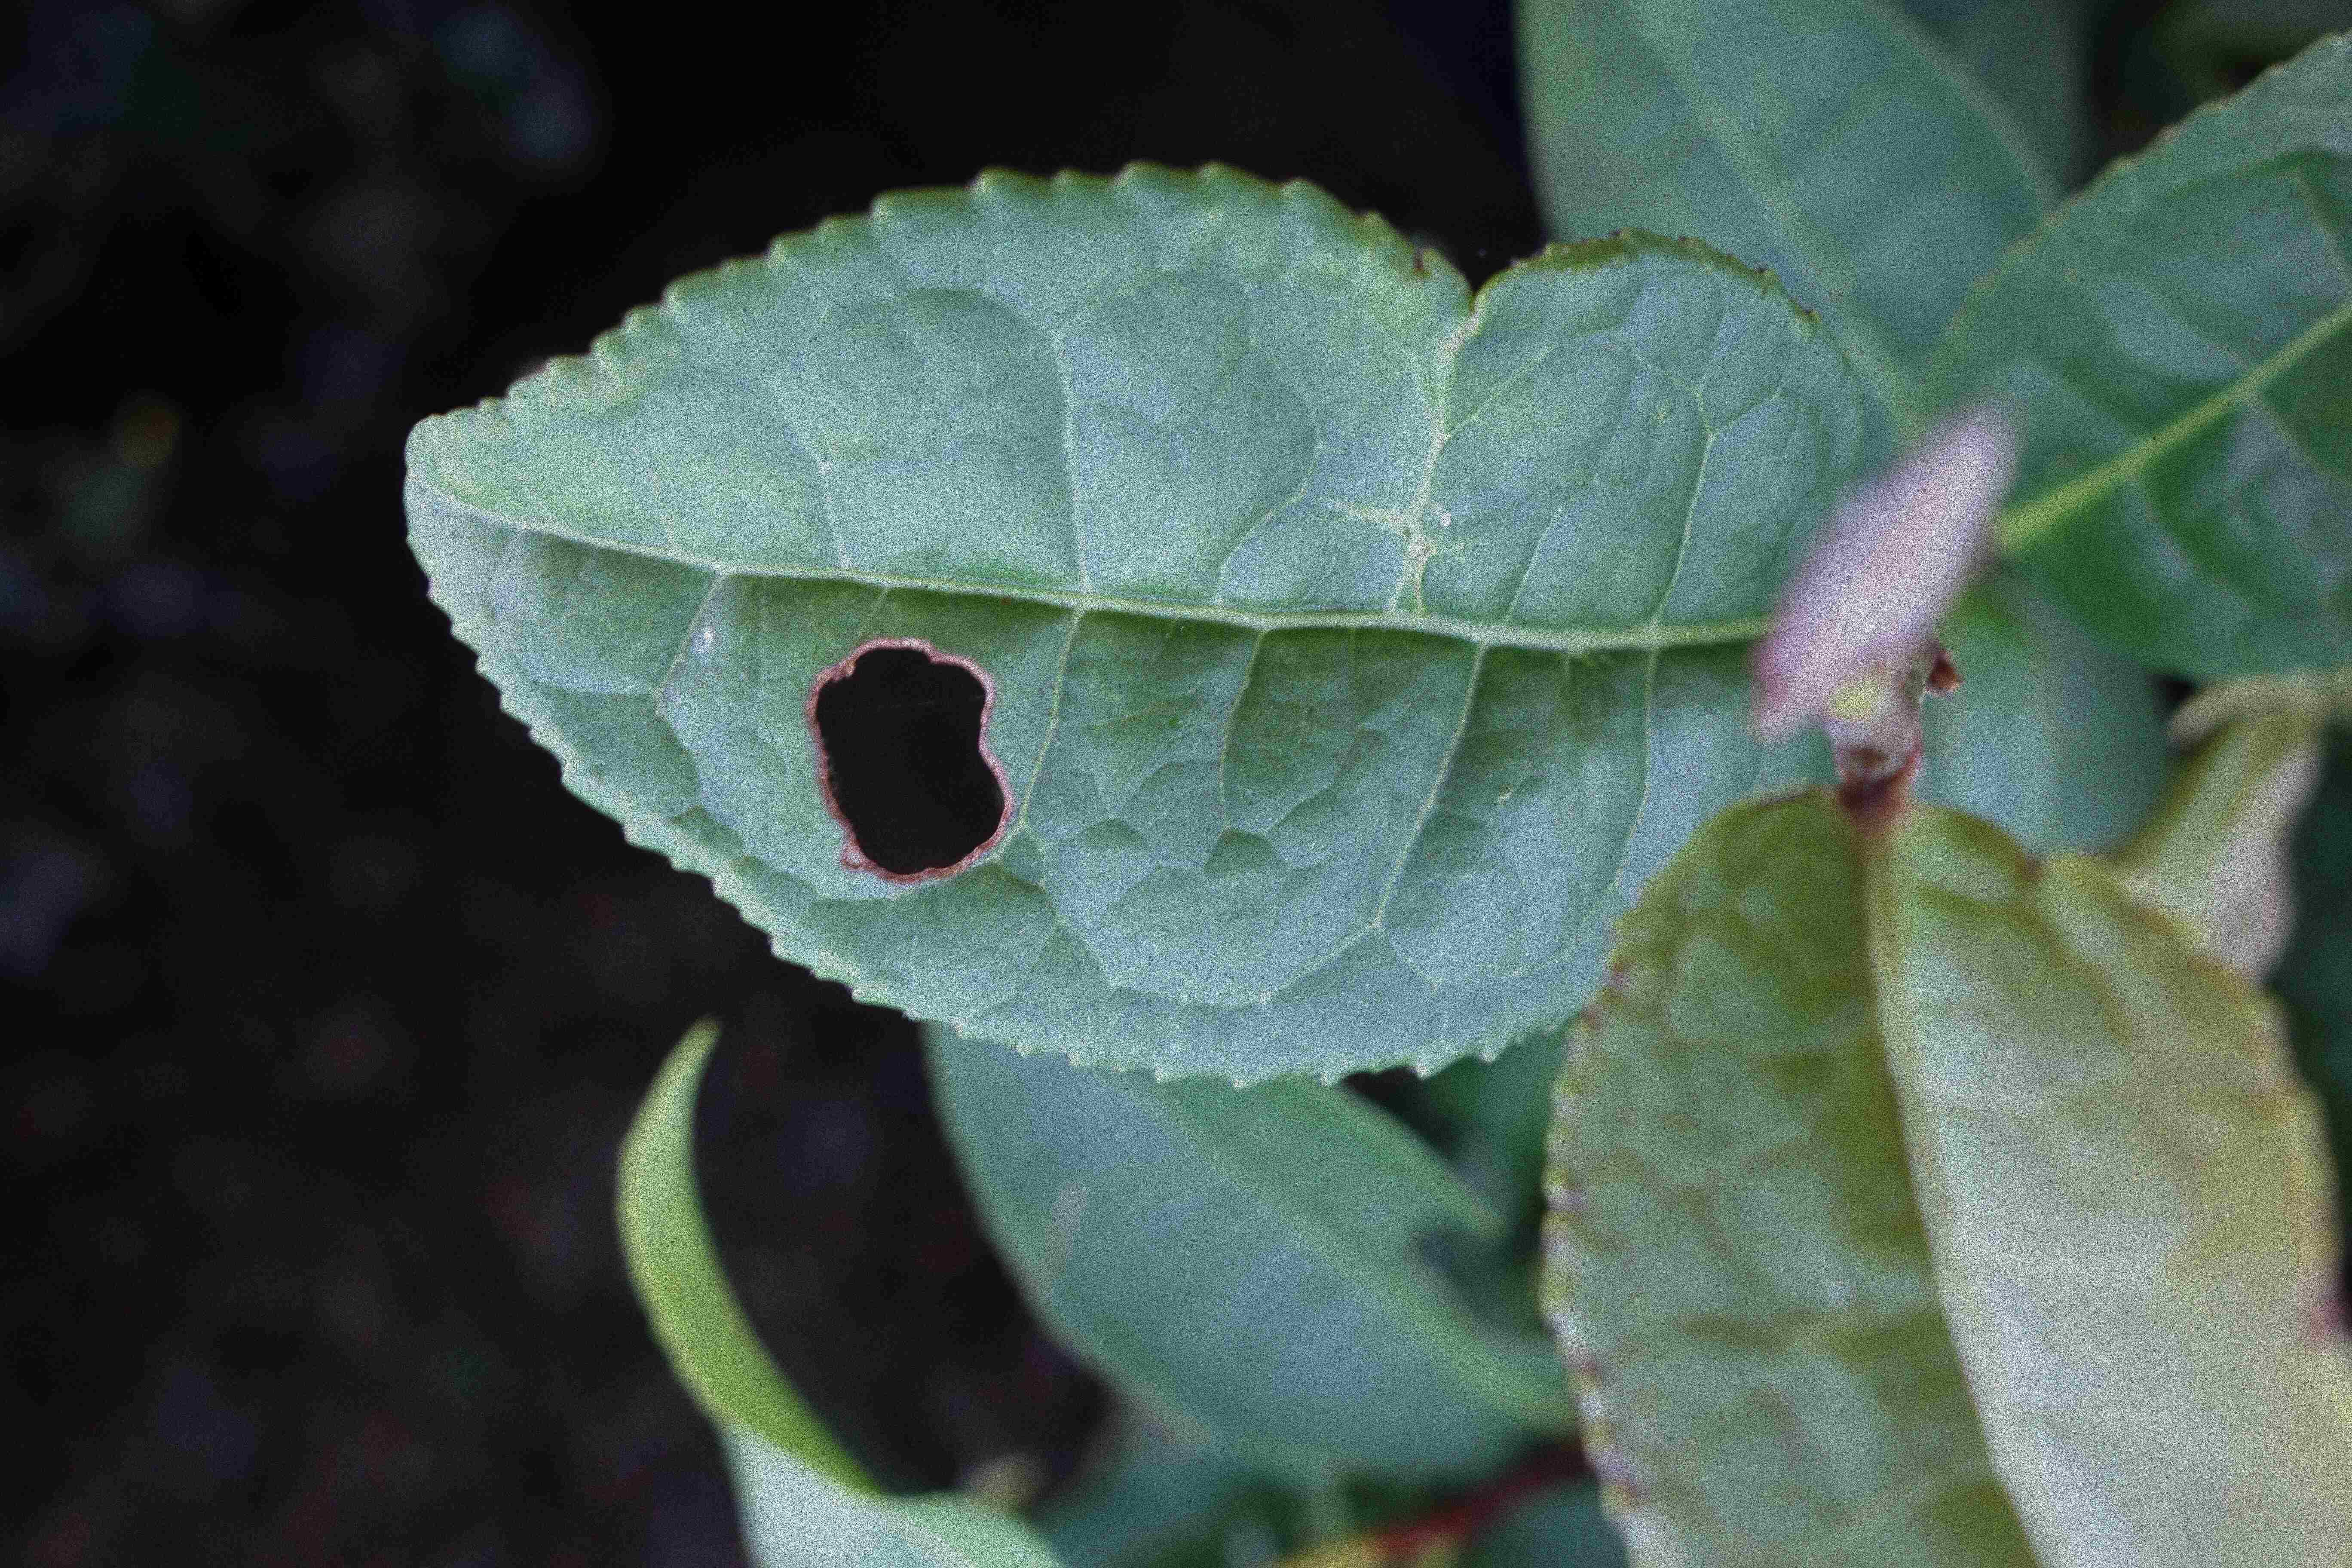chihuo_low: (406, 159, 1865, 1092)
